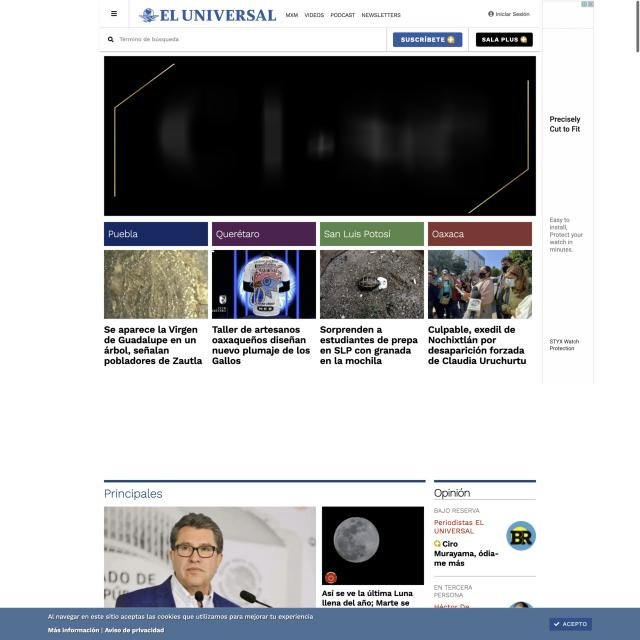input: (99, 28, 387, 52)
logo: (137, 5, 278, 26)
navigation: (285, 11, 402, 20), (100, 0, 129, 27)
